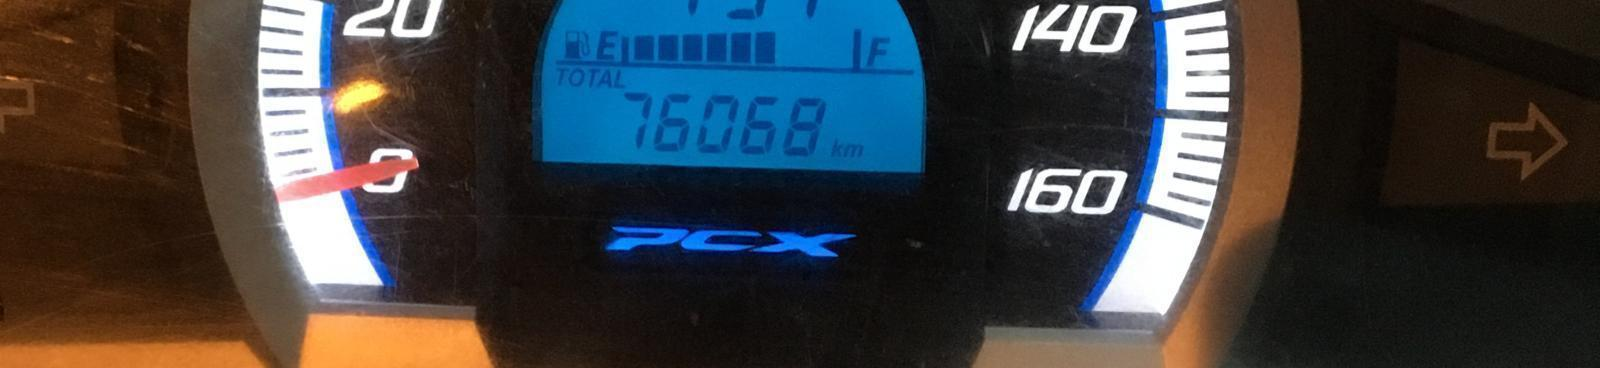0: (694, 92, 738, 155)
6: (742, 92, 778, 156), (654, 92, 690, 152)
7: (621, 88, 654, 149)
8: (783, 89, 824, 158)
X: (864, 35, 893, 66), (596, 27, 619, 62), (830, 136, 847, 160), (845, 139, 863, 161), (553, 62, 568, 87), (587, 65, 600, 88), (569, 67, 583, 88), (600, 69, 611, 90), (614, 69, 626, 89)
odometer: (517, 0, 947, 183)
